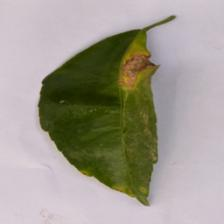canker: (105, 38, 172, 105)
